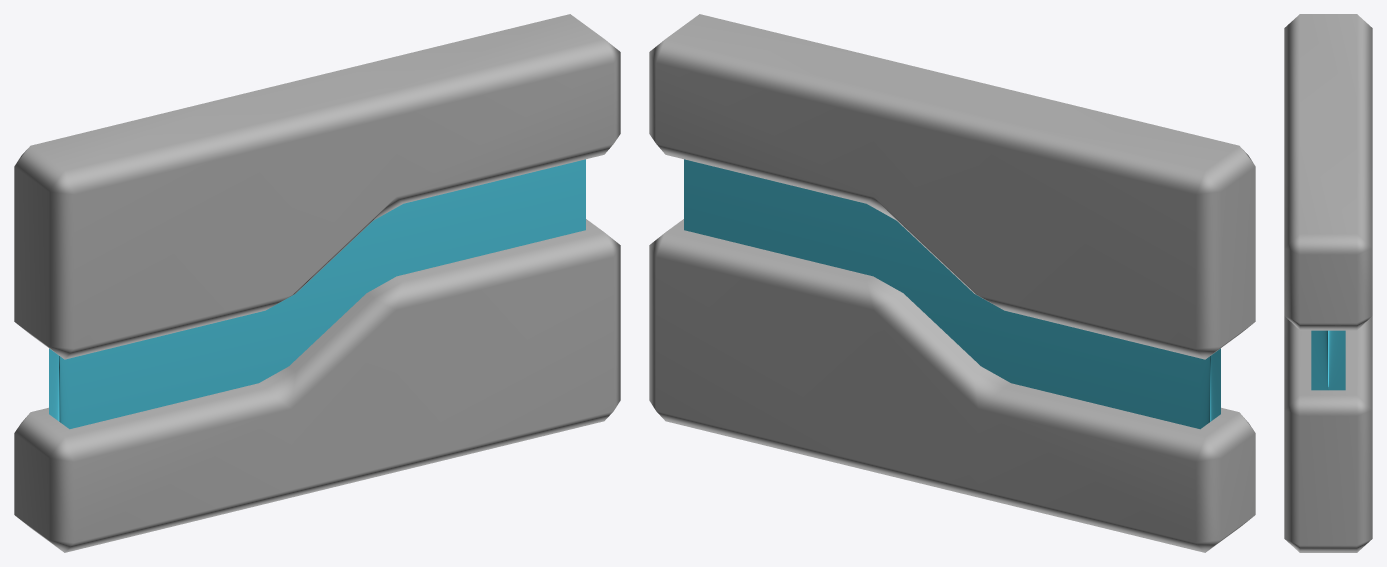
The model's file is panel_009.fbx.
3 renders of one model, left to right at view 1: azimuth 30°, elevation 25°; view 2: azimuth 150°, elevation 25°; view 3: azimuth 270°, elevation 25°, orthographic. The views are drawn at different scales.
Parts seen in each view (by area): view 1: panel_009; view 2: panel_009; view 3: panel_009.
Part boxes in pixels (<box>): panel_009: <box>14,14,620,552</box>; panel_009: <box>649,14,1255,552</box>; panel_009: <box>1284,14,1372,552</box>.
Bounding box in the file's own units: 556 × 89.2 × 355.
